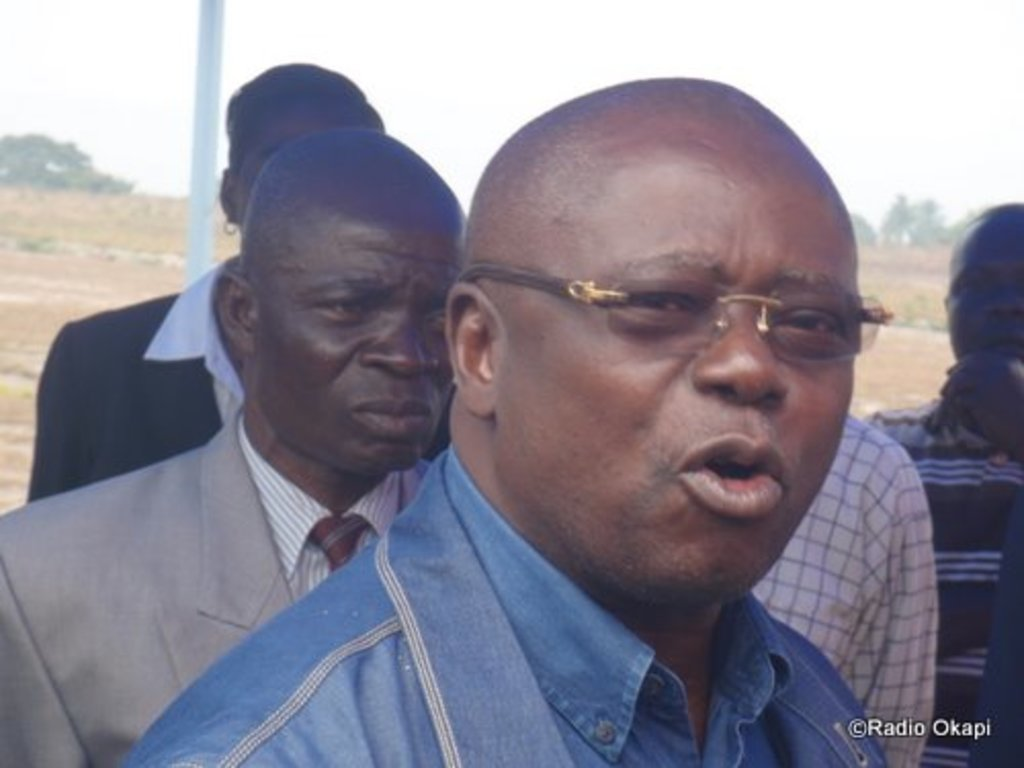Tree: (843, 190, 972, 251), (0, 133, 149, 184)
